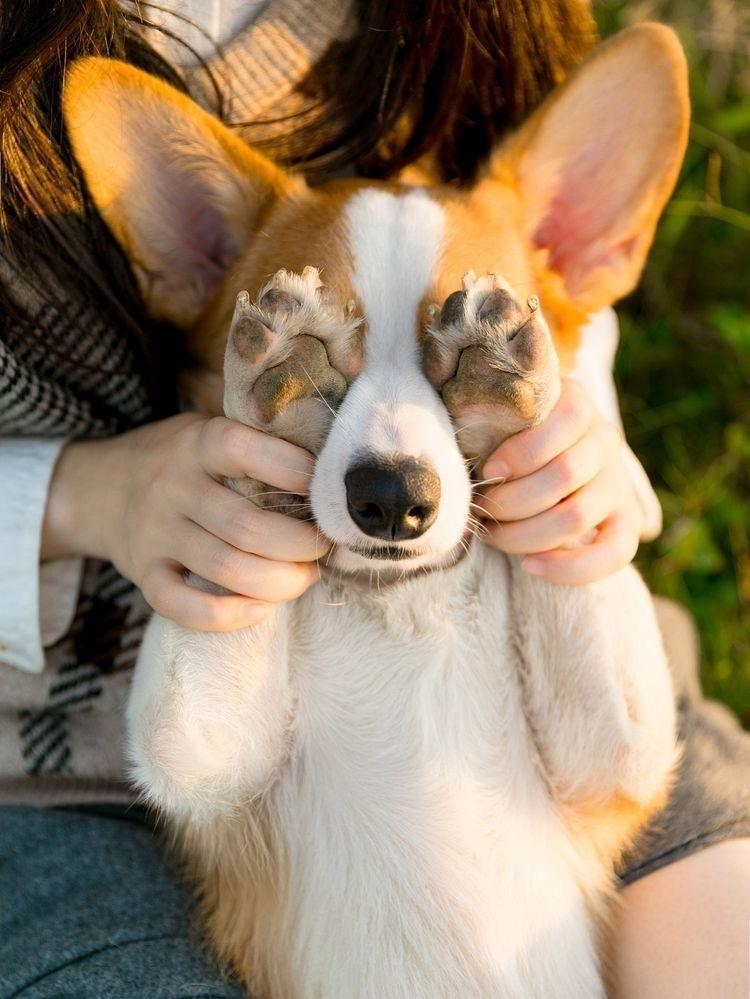puppy-dog: (60, 24, 696, 988)
